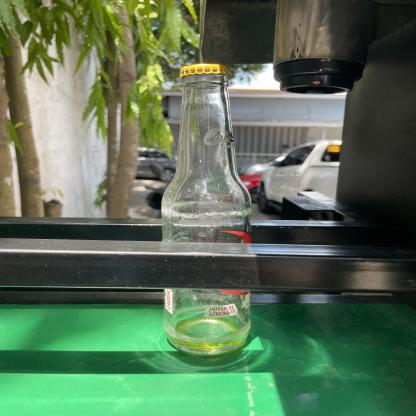Can: (159, 57, 254, 361)
